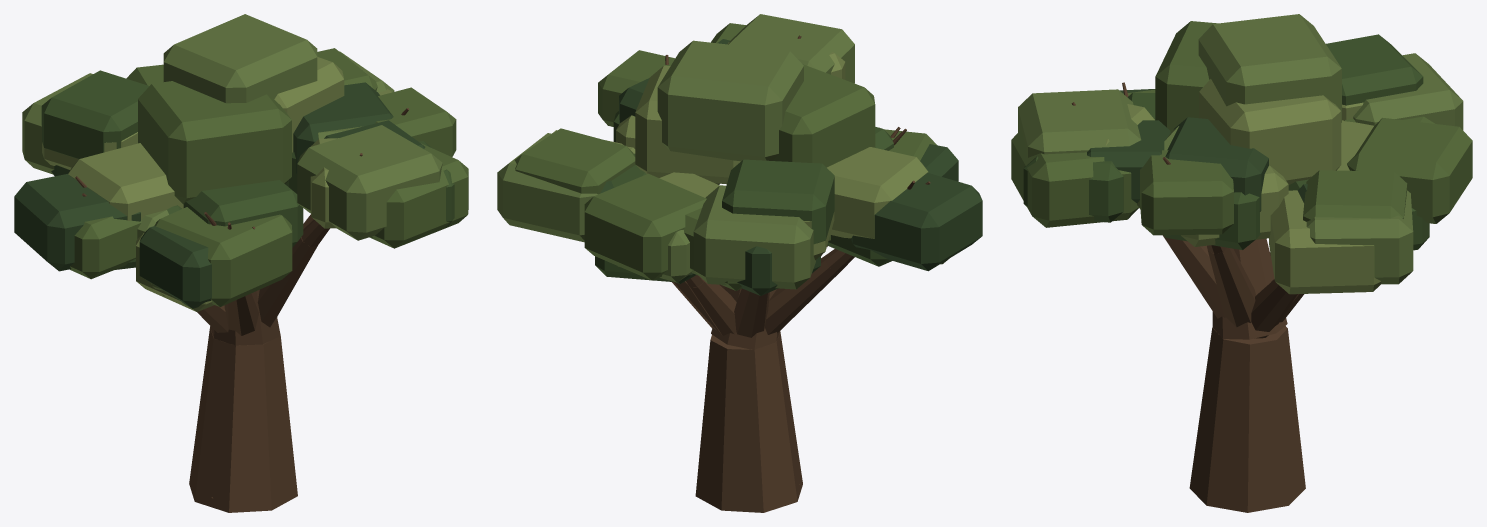
Rendered from apple_mature_3.glb.
3 renders of one model, left to right at view 1: azimuth 30°, elevation 25°; view 2: azimuth 150°, elevation 25°; view 3: azimuth 270°, elevation 25°, orthographic. The views are drawn at different scales.
Visible parts, largest first — view 1: apple_mature_3; view 2: apple_mature_3; view 3: apple_mature_3.
Boxes of the visible parts, x1,y1,x2,y2 form: apple_mature_3: (14,14,468,512); apple_mature_3: (497,14,982,512); apple_mature_3: (1011,14,1472,512).
Size of the model in its own units: 11.57 by 12 by 11.1.
